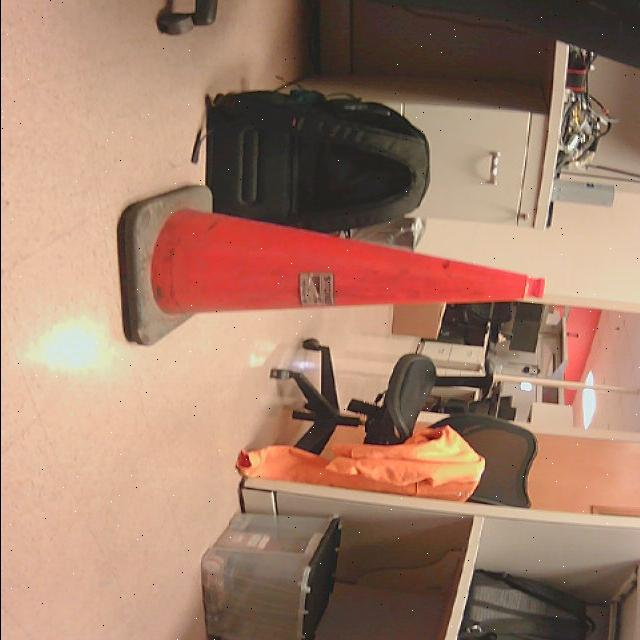traffic cone: (114, 186, 546, 347)
